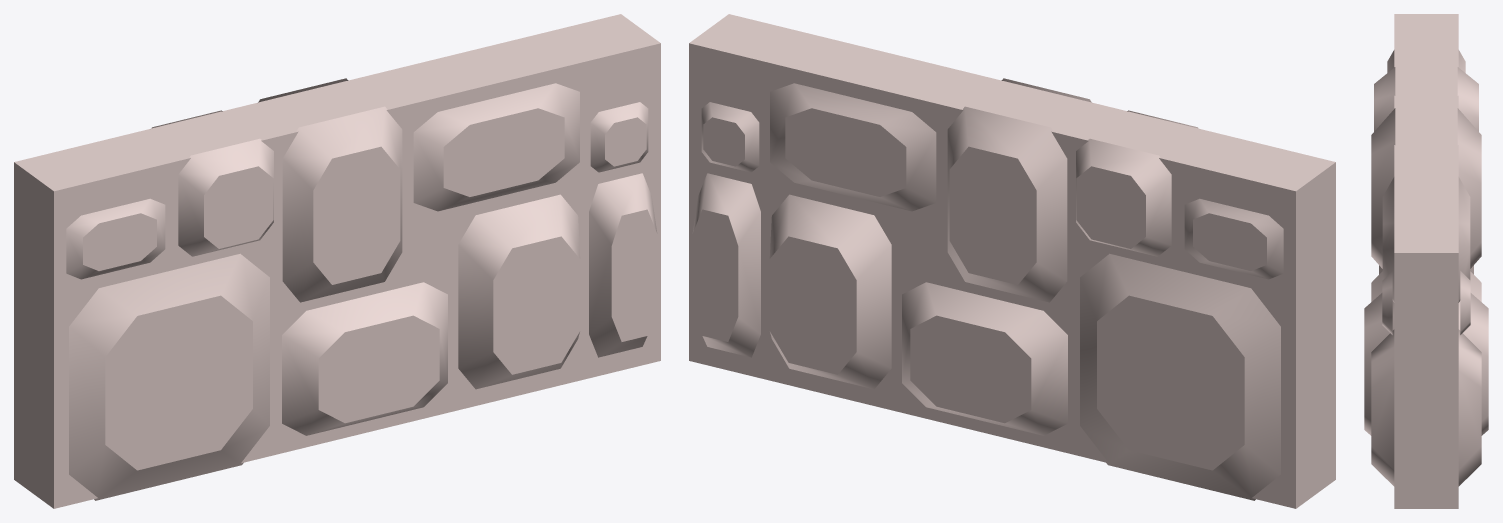
The model's file is Wall_half.fbx.
3 views of the same model, side by side, from view 1: azimuth 30°, elevation 25°; view 2: azimuth 150°, elevation 25°; view 3: azimuth 270°, elevation 25° (orthographic). The views are drawn at different scales.
Visible parts, largest first — view 1: Wall_half; view 2: Wall_half; view 3: Wall_half.
Part boxes in pixels (box(x1,y1,x2,y2)): Wall_half: box(14, 14, 660, 508); Wall_half: box(689, 14, 1335, 508); Wall_half: box(1364, 14, 1488, 508).
Bounding box in the file's own units: 300 × 153 × 66.08.
